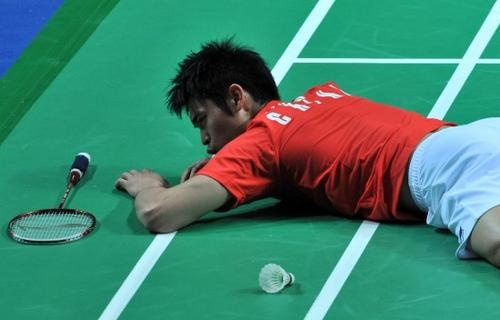falling: (117, 11, 489, 273)
